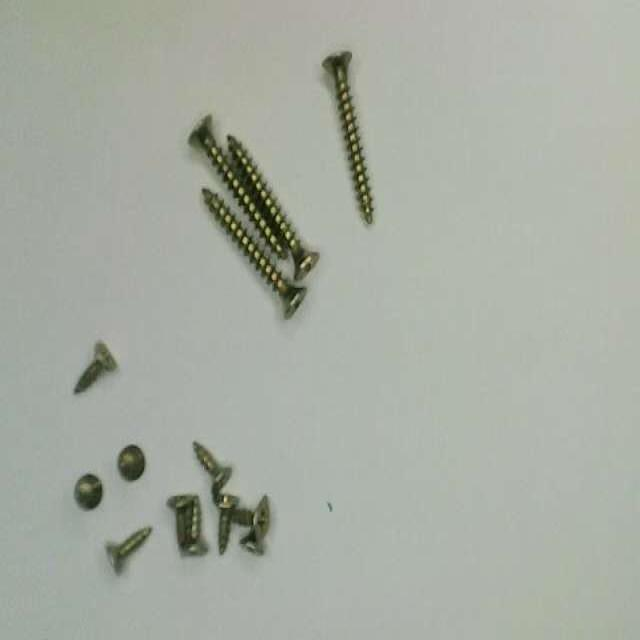Parafuso: (201, 188, 306, 318), (227, 135, 319, 279), (188, 115, 279, 253), (322, 51, 372, 223), (193, 442, 231, 503), (105, 527, 151, 574), (74, 342, 116, 393), (167, 495, 196, 550), (232, 495, 269, 535), (184, 496, 207, 555), (216, 494, 238, 554), (117, 444, 145, 481), (74, 474, 102, 510), (240, 527, 264, 554)
